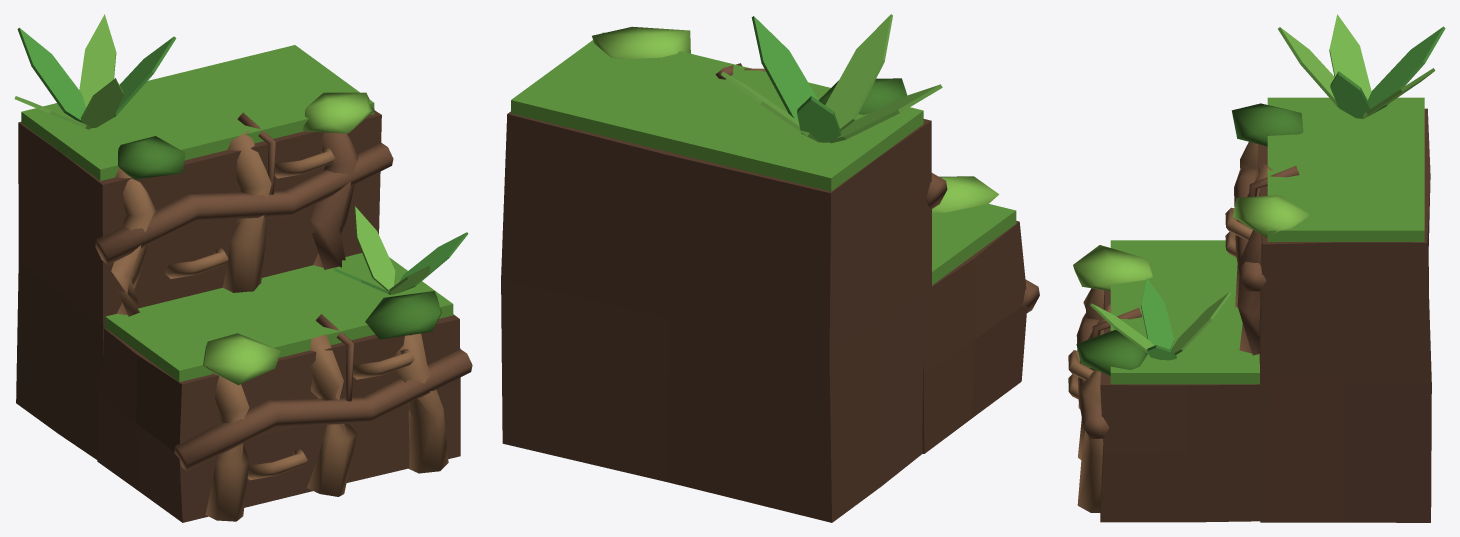
Rendered from climb_wall_root.glb.
The picture shows the model from 3 angles, left to right: view 1: azimuth 30°, elevation 25°; view 2: azimuth 150°, elevation 25°; view 3: azimuth 270°, elevation 25°; orthographic projection. The views are drawn at different scales.
Visible parts, largest first — view 1: climb_wall_root; view 2: climb_wall_root; view 3: climb_wall_root.
Part boxes in pixels (x1,y1,x2,y2): climb_wall_root: (14,14,472,522); climb_wall_root: (501,14,1039,522); climb_wall_root: (1068,14,1445,522).
Size of the model in its own units: 1.33 by 1.32 by 1.2.
